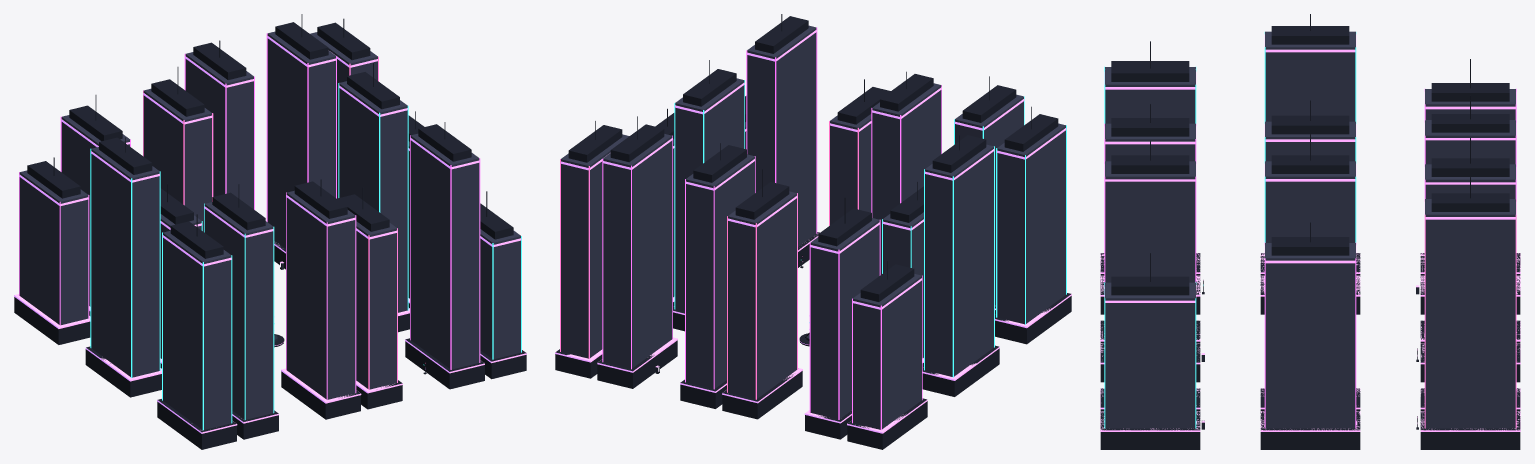
The picture shows the model from 3 angles, left to right: view 1: azimuth 30°, elevation 25°; view 2: azimuth 150°, elevation 25°; view 3: azimuth 270°, elevation 25°; orthographic projection. The views are drawn at different scales.
Visible parts, largest first — view 1: district_city_cero.lod1; view 2: district_city_cero.lod1; view 3: district_city_cero.lod1.
Part boxes in pixels (bbox=[...]): district_city_cero.lod1: bbox=[14, 14, 526, 449]; district_city_cero.lod1: bbox=[555, 14, 1071, 449]; district_city_cero.lod1: bbox=[1100, 14, 1520, 449].
Size of the model in its own units: 97.1 by 72.28 by 97.1.
